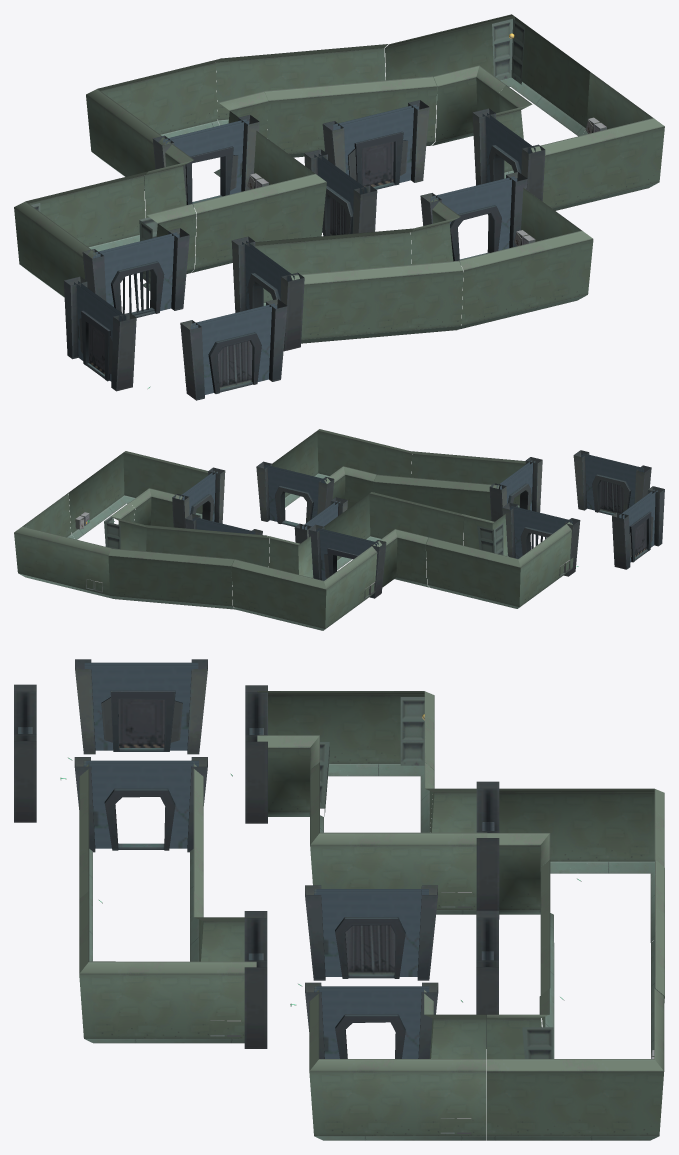
The model's file is scene_page_03.obj.
3 renders of one model, top to bottom at view 1: azimuth 30°, elevation 25°; view 2: azimuth 150°, elevation 25°; view 3: azimuth 270°, elevation 25°, orthographic. The views are drawn at different scales.
Size of the model in its own units: 76.38 by 11.22 by 56.56.
Materials: 1 (1 with a texture image).
